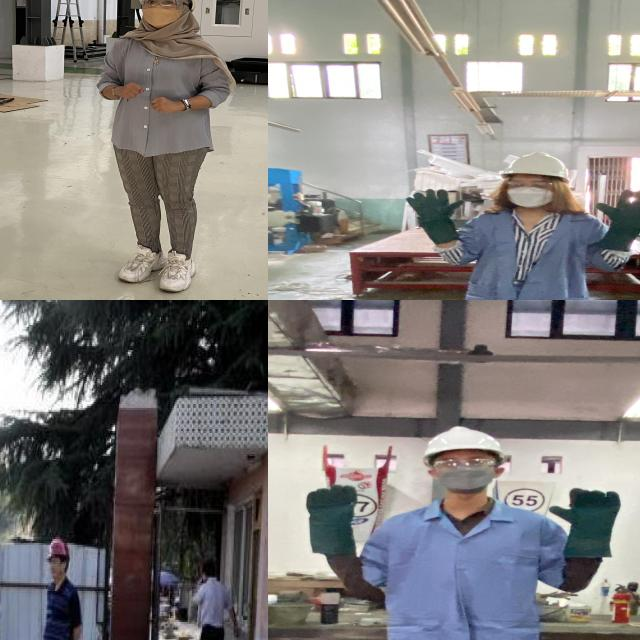face_mask: (426, 452, 503, 491), (504, 178, 558, 207), (139, 0, 182, 27)
glasses: (429, 457, 502, 472), (504, 179, 556, 192), (138, 0, 191, 8)
hand_glove: (547, 486, 626, 528), (293, 482, 368, 521), (400, 187, 469, 225), (591, 187, 640, 229)
hand_noglove: (108, 78, 146, 105), (144, 92, 178, 119)
head_helmet: (90, 0, 231, 300), (419, 422, 507, 457), (500, 149, 574, 180), (43, 538, 70, 562)
head_nohelmet: (202, 556, 222, 576)
person: (283, 416, 640, 640), (401, 149, 640, 300), (31, 531, 87, 640), (191, 553, 240, 640)
shoes: (151, 244, 200, 294), (112, 242, 168, 284)
